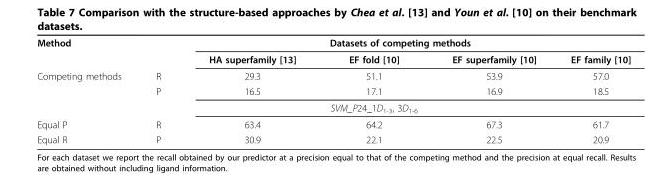table: (36, 36, 630, 144)
table column: (184, 36, 312, 144), (312, 36, 434, 144), (434, 36, 552, 144), (36, 36, 137, 144), (552, 36, 630, 144), (137, 36, 184, 144)
table row: (36, 50, 630, 67), (36, 99, 630, 116), (36, 67, 630, 83), (36, 83, 630, 99), (36, 116, 630, 131), (36, 36, 630, 50), (36, 131, 630, 144)
table spanning cell: (137, 36, 630, 50), (36, 67, 137, 116), (36, 36, 137, 67)
